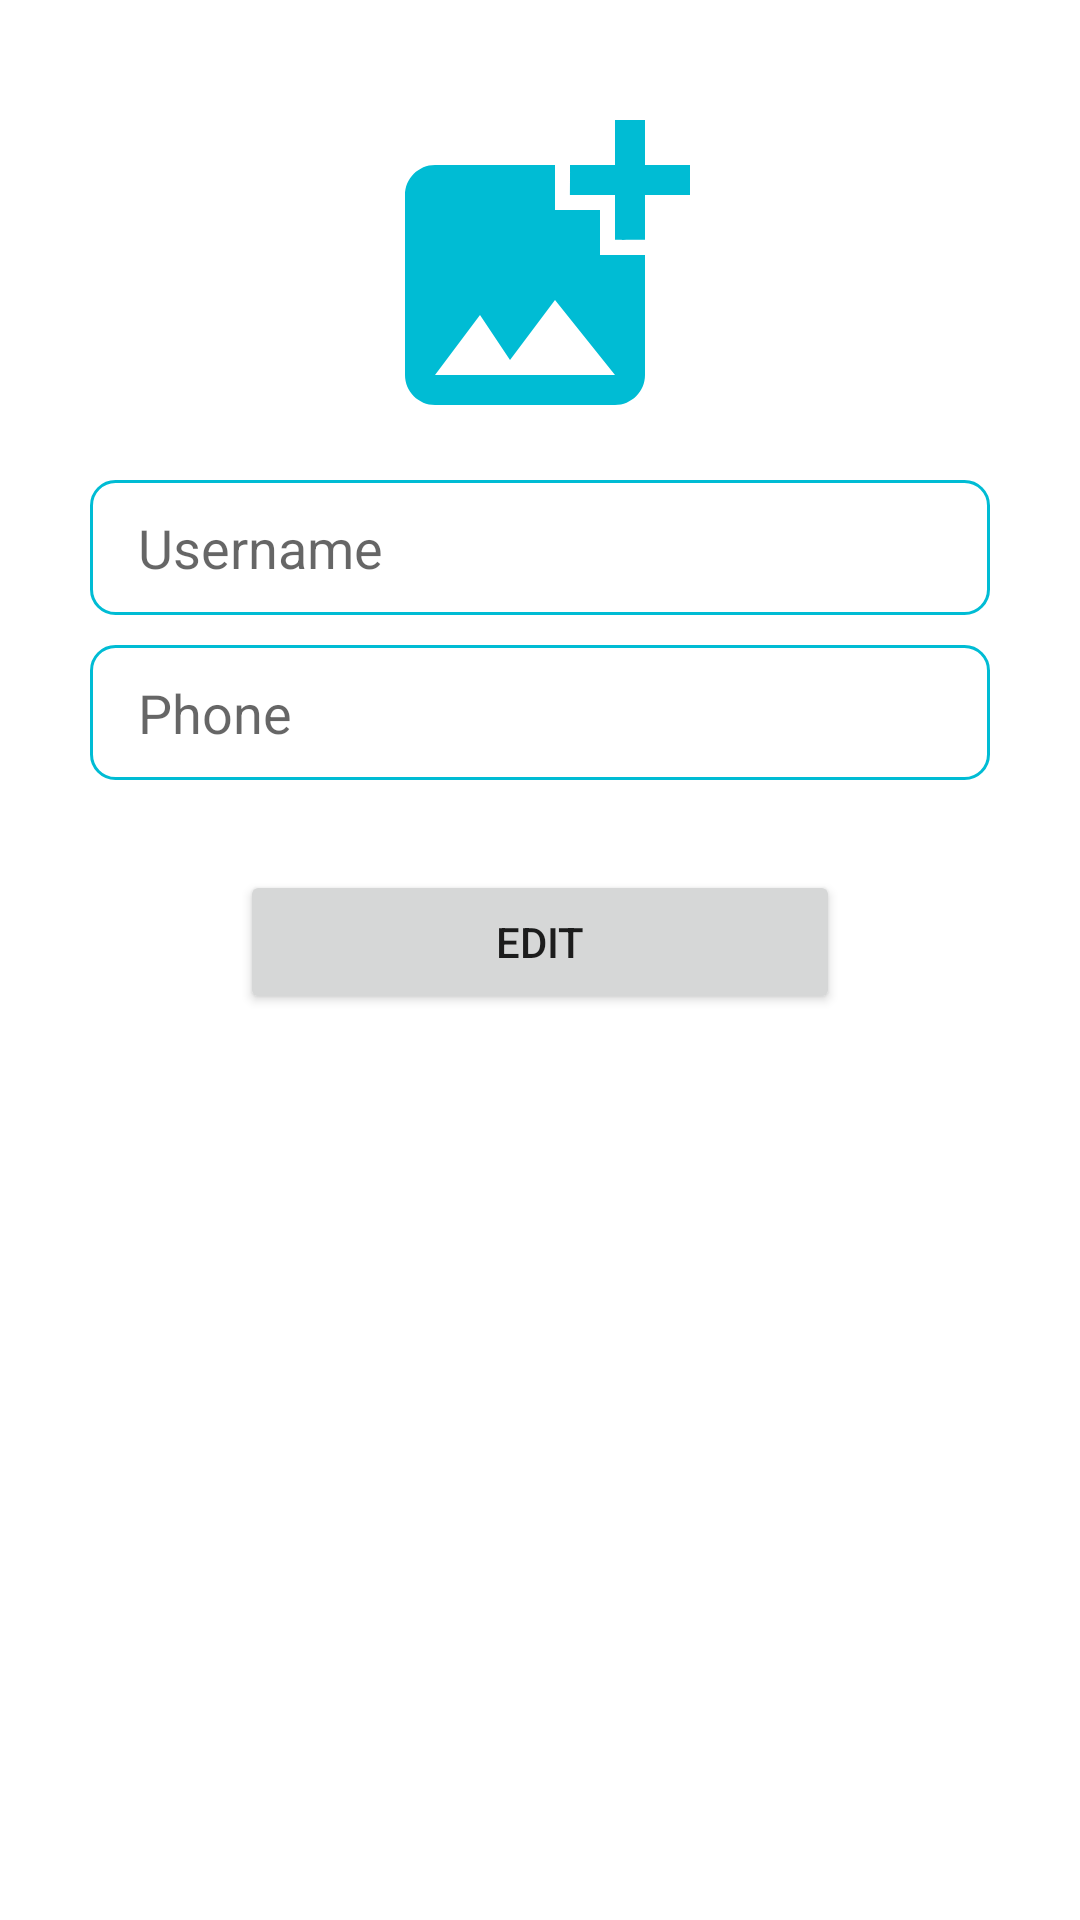

Icon bounding boxes for this 1080px×1920px phone screenshot, format (x1, y1, x2, y2):
add photo alternate: (405, 120, 690, 405)
